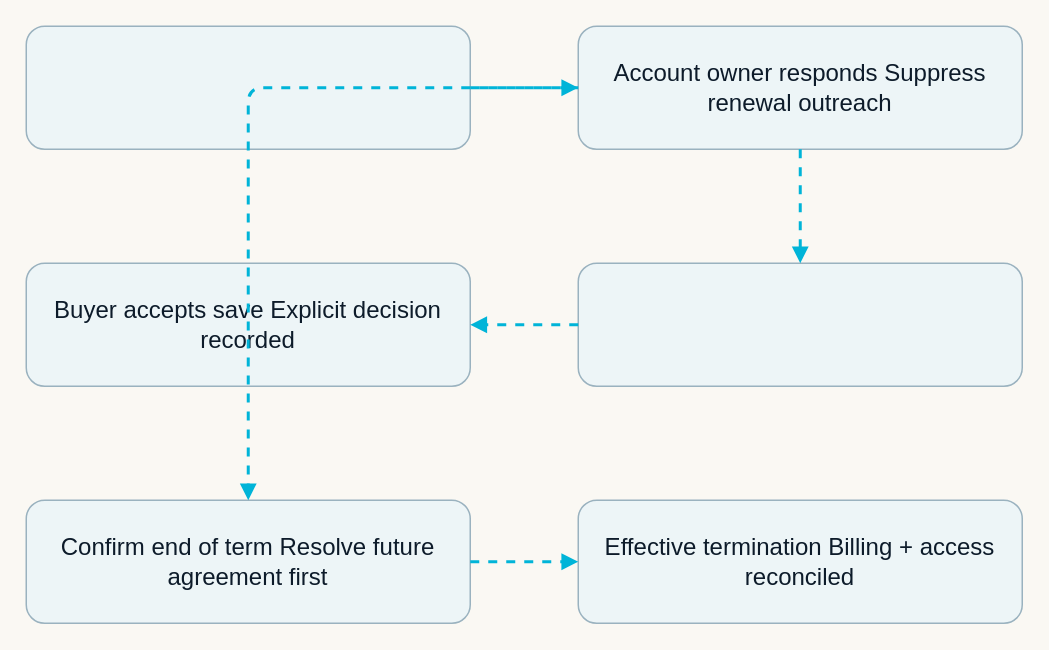
The diagram is 1049 pixels wide and 650 high, and some of its shapes have lost their labels. The centre of each missing label's shape, as x and y in pixels:
Buyer requests exit Record reason + current term: [247,87]
Existing-terms save plan No automatic price concession: [799,324]
